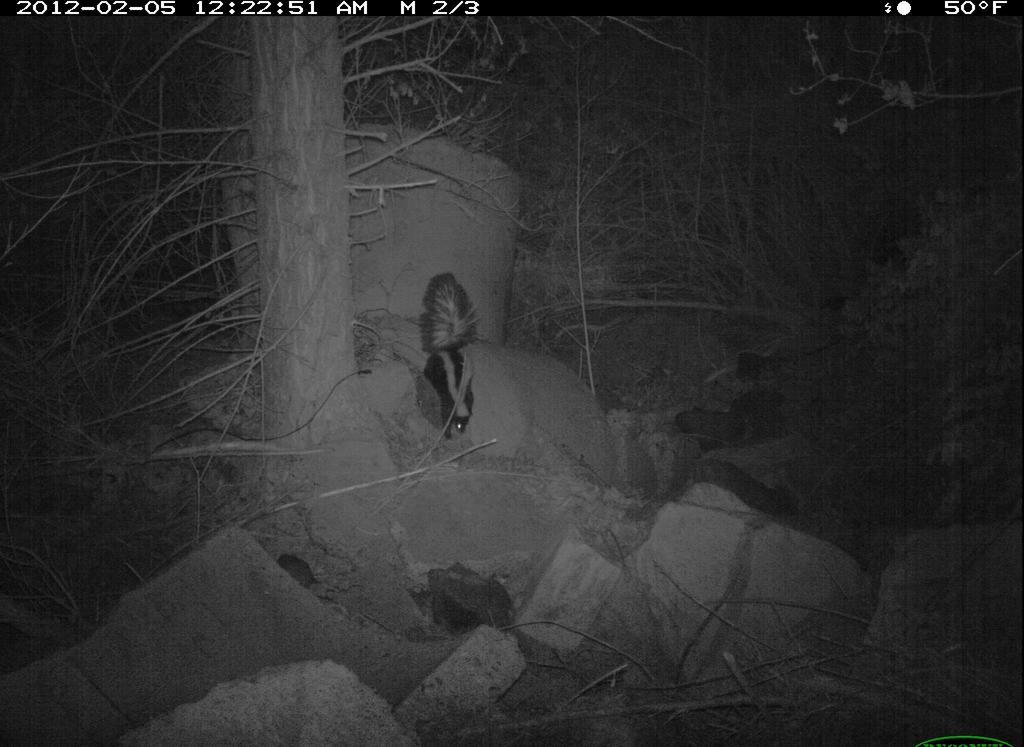skunk: (419, 259, 492, 447)
